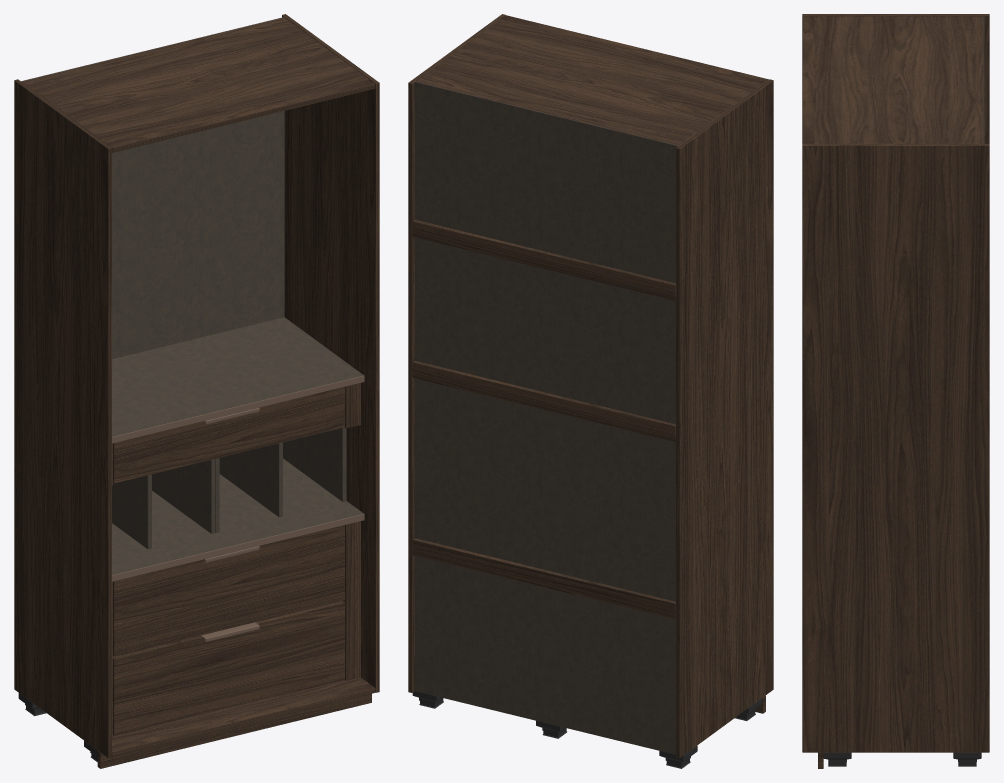
3 renders of one model, left to right at view 1: azimuth 30°, elevation 25°; view 2: azimuth 150°, elevation 25°; view 3: azimuth 270°, elevation 25°, orthographic.
Visible parts, largest first — view 1: HK1001097, BONG_01; view 2: HK1001097; view 3: HK1001097.
Part boxes in pixels (left/top/right/bottom): HK1001097: left=14, top=14, right=379, bottom=768; BONG_01: left=201, top=408, right=259, bottom=642; HK1001097: left=408, top=14, right=773, bottom=768; HK1001097: left=802, top=14, right=989, bottom=768.
Bounding box in the file's own units: 1 × 2.2 × 0.6.
7 materials, 6 textured.
